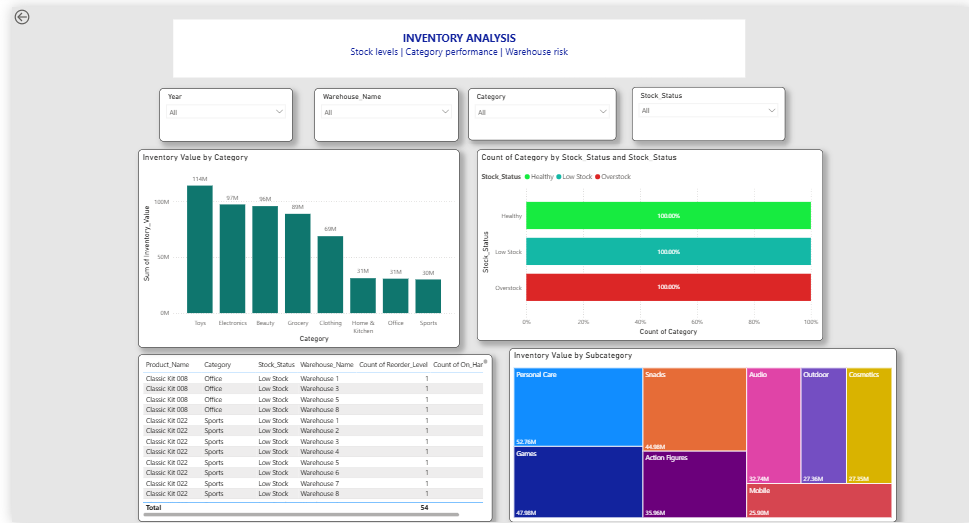

The page's visual inventory and layout, read from the dashboard file:
{"tool":"powerbi","page":{"name":"Inventory Analysis","canvas":[1920,1030],"ordinal":1},"visuals":[{"type":"textbox","box":[322,26,1144,116],"z":0},{"type":"slicer","title":"Year","fields":{"Values":["Calendar.Year"]},"box":[296,162,266,106],"z":1},{"type":"slicer","title":"Warehouse","fields":{"Values":["Warehouses.Warehouse_Name"]},"box":[606,162,288,106],"z":2},{"type":"slicer","title":"Category","fields":{"Values":["Products.Category"]},"box":[912,162,296,104],"z":3},{"type":"slicer","title":"Stock Stutas","fields":{"Values":["Inventory.Stock_Status"]},"box":[1240,160,306,108],"z":4},{"type":"hundredPercentStackedBarChart","fields":{"Category":["Inventory.Stock_Status"],"Series":["Inventory.Stock_Status"],"Y":["CountNonNull(Products.Category)"]},"box":[930,286,692,382],"z":6},{"type":"treemap","fields":{"Group":["Products.Subcategory"],"Values":["Inventory.Inventory Value"]},"box":[996,682,774,348],"z":7},{"type":"tableEx","fields":{"Values":["Products.Product_Name","Products.Category","Inventory.Stock_Status","Warehouses.Warehouse_Name","Count(Inventory.Reorder_Level)","Count(Inventory.On_Hand_Units)"]},"box":[252,696,708,334],"z":8},{"type":"clusteredColumnChart","title":"Inventory Value by Category","fields":{"Category":["Products.Category"],"Y":["Sum(Inventory.Inventory_Value)"]},"box":[252,286,642,396],"z":10},{"type":"actionButton","box":[0,0,100,40],"z":11}]}

Visuals, with their boxes in screenshot pixels (x1, y1, x2, y2):
textbox: locate(173, 15, 742, 73)
"Year" slicer: locate(160, 83, 292, 136)
"Warehouse" slicer: locate(314, 83, 458, 136)
"Category" slicer: locate(467, 83, 614, 135)
"Stock Stutas" slicer: locate(630, 82, 782, 136)
hundredPercentStackedBarChart - Inventory.Stock_Status x Inventory.Stock_Status: locate(475, 145, 820, 335)
treemap - Products.Subcategory x Inventory.Inventory Value: locate(508, 342, 894, 515)
tableEx - Products.Product_Name x Products.Category: locate(138, 349, 490, 515)
"Inventory Value by Category" clusteredColumnChart: locate(138, 145, 458, 342)
actionButton: locate(13, 3, 62, 22)
